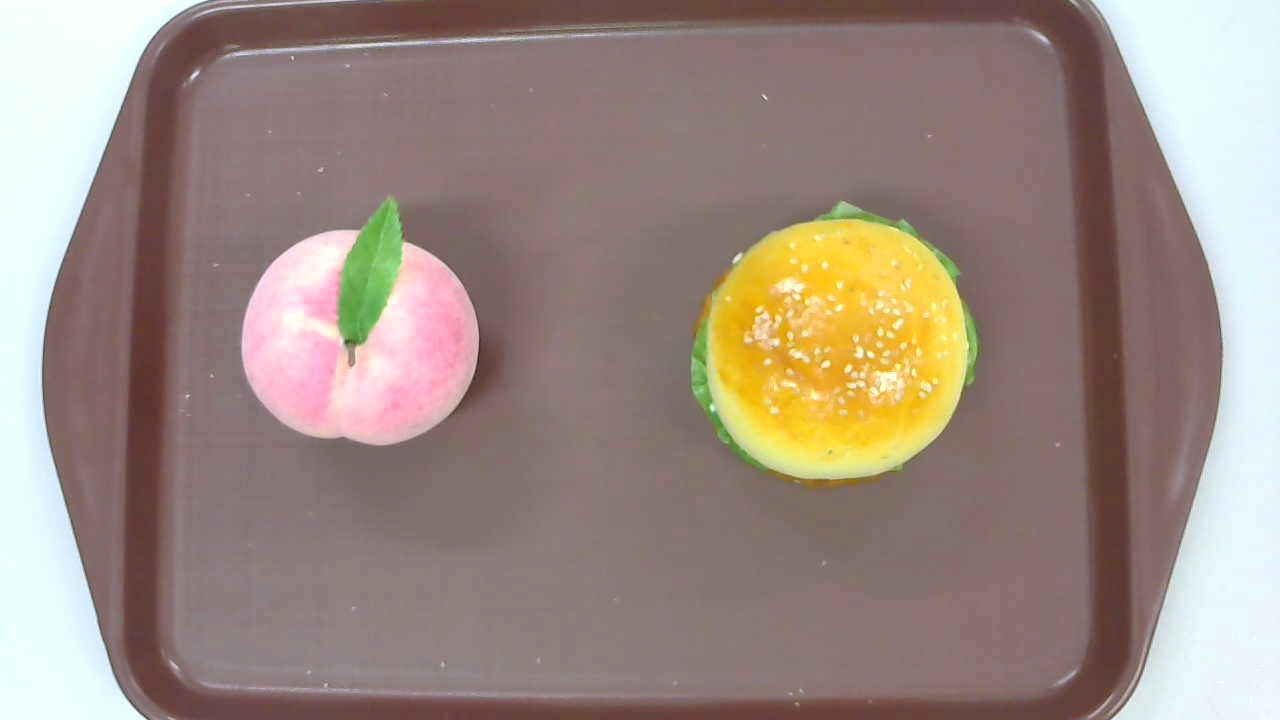hamburger: (688, 201, 976, 490)
peach: (240, 193, 478, 447)
